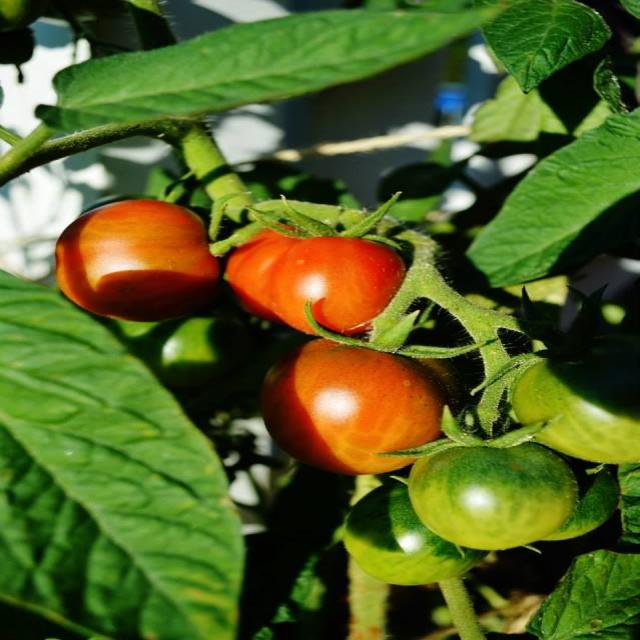level 1: (405, 435, 581, 551)
level 5: (277, 342, 466, 473), (50, 204, 209, 321), (268, 232, 418, 337), (223, 220, 347, 316)
